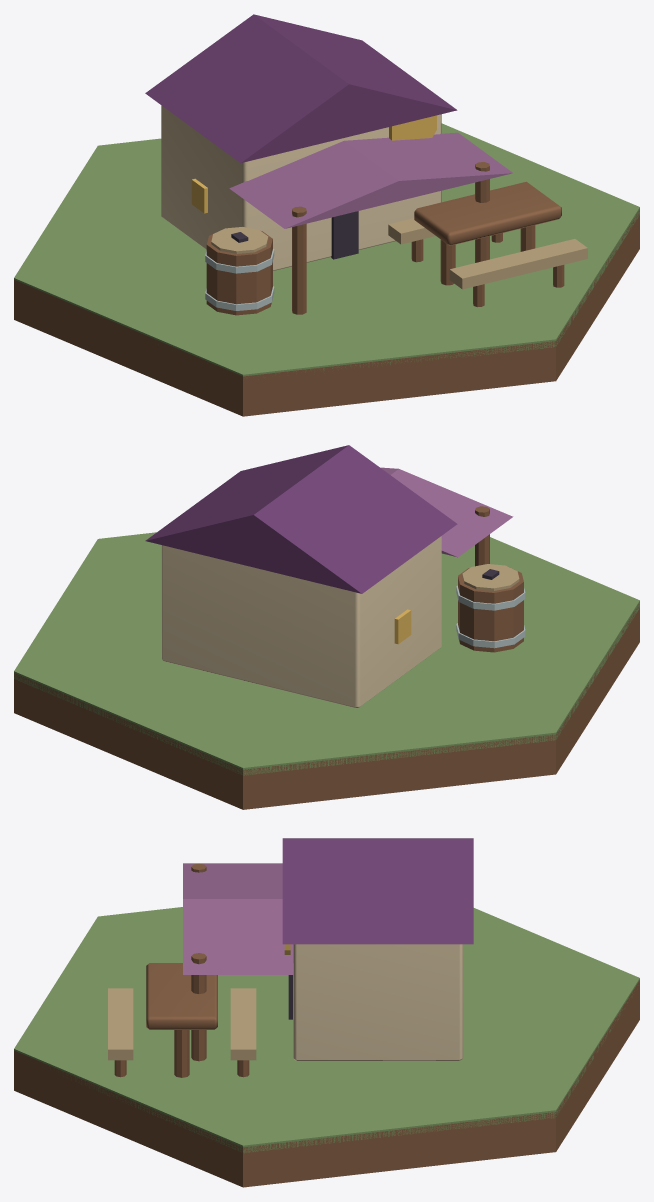
Rendered from taproom.glb.
The picture shows the model from 3 angles, top to bottom: view 1: azimuth 30°, elevation 25°; view 2: azimuth 150°, elevation 25°; view 3: azimuth 270°, elevation 25°; orthographic projection.
Visible parts, largest first — view 1: Cone.094, gable.003, Cone.093, gable.004, Cube.021, Cube.025, Cone.097, Cube.026, Cone.095, Cube.022, Cone.100, Cone.107 (+3 smaller); view 2: Cone.094, Cube.021, gable.003, Cone.093, gable.004, Cone.097, Cone.100, Cone.099, Cone.098, Cone.095; view 3: Cone.094, Cone.093, gable.003, Cube.021, gable.004, Cube.025, Cube.027, Cube.026, Cone.096, Cone.106.
Part boxes in pixels (left/top/right/bottom): Cone.094: left=14, top=123, right=639, bottom=376; gable.003: left=145, top=14, right=457, bottom=163; Cone.093: left=14, top=209, right=639, bottom=416; gable.004: left=229, top=132, right=512, bottom=228; Cube.021: left=161, top=105, right=441, bottom=270; Cube.025: left=414, top=181, right=561, bottom=245; Cone.097: left=206, top=229, right=272, bottom=315; Cube.026: left=449, top=239, right=587, bottom=289; Cone.095: left=292, top=206, right=306, bottom=314; Cube.022: left=331, top=211, right=358, bottom=259; Cone.100: left=211, top=227, right=268, bottom=253; Cone.107: left=389, top=115, right=436, bottom=140; Cone.094: left=14, top=532, right=639, bottom=775; Cube.021: left=161, top=536, right=441, bottom=708; gable.003: left=145, top=445, right=457, bottom=593; Cone.093: left=14, top=602, right=639, bottom=809; gable.004: left=380, top=467, right=513, bottom=557; Cone.097: left=458, top=567, right=523, bottom=652; Cone.100: left=462, top=564, right=519, bottom=590; Cone.099: left=456, top=585, right=525, bottom=610; Cone.098: left=456, top=623, right=525, bottom=648; Cone.095: left=475, top=506, right=489, bottom=566; Cone.094: left=14, top=907, right=639, bottom=1153; Cone.093: left=14, top=980, right=639, bottom=1187; gable.003: left=282, top=838, right=473, bottom=944; Cube.021: left=293, top=944, right=463, bottom=1060; gable.004: left=183, top=863, right=293, bottom=974; Cube.025: left=146, top=963, right=217, bottom=1029; Cube.027: left=230, top=988, right=256, bottom=1060; Cube.026: left=108, top=988, right=133, bottom=1060; Cone.096: left=191, top=953, right=206, bottom=1061; Cone.106: left=174, top=1030, right=189, bottom=1077.
Bounding box in the file's own units: 3.67 × 1.4 × 3.67.
